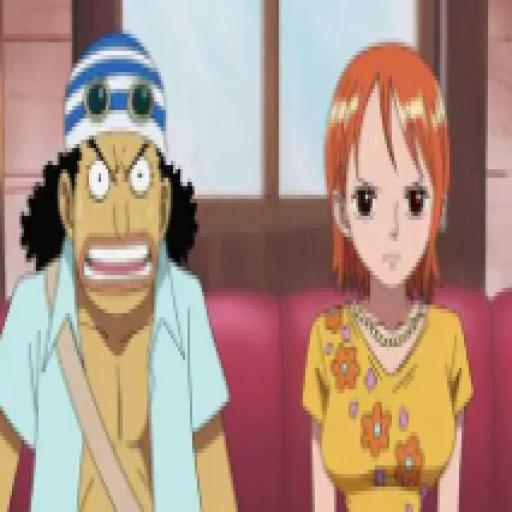Nami: (295, 39, 475, 512)
Usopp: (3, 32, 244, 512)
